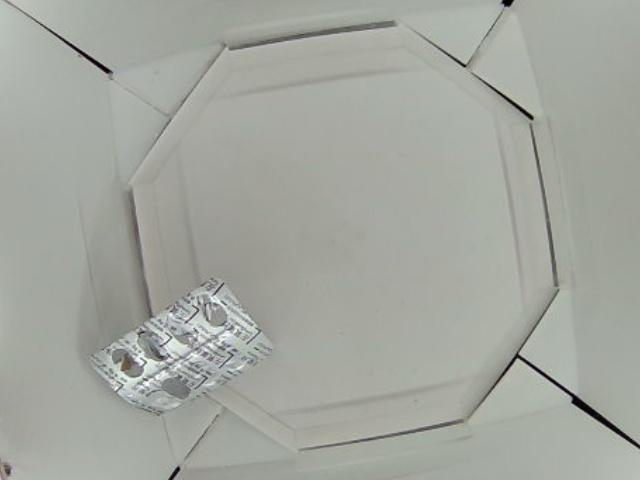Medicine: (94, 277, 271, 414)
